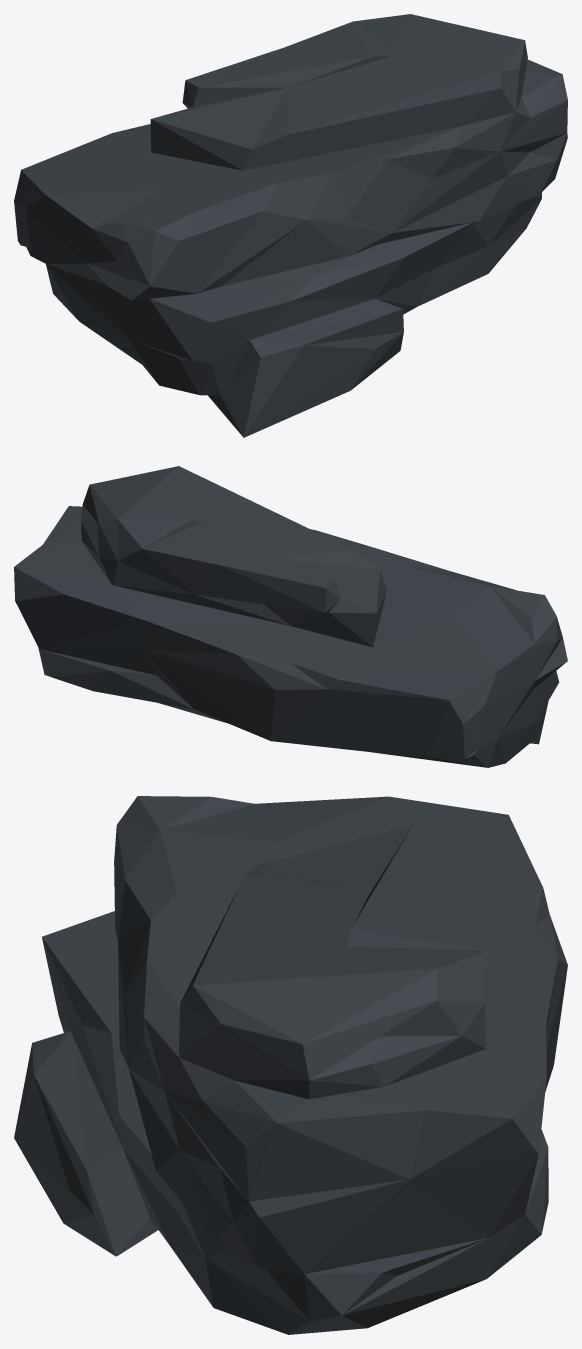
The model's file is MDungeon_CavernRock_Small_03.FBX.
3 views of the same model, one above another, from view 1: azimuth 30°, elevation 25°; view 2: azimuth 150°, elevation 25°; view 3: azimuth 270°, elevation 25° (orthographic). The views are drawn at different scales.
Visible parts, largest first — view 1: MDungeon_CavernRock_Small_03_LOD0; view 2: MDungeon_CavernRock_Small_03_LOD0; view 3: MDungeon_CavernRock_Small_03_LOD0.
Boxes of the visible parts, x1,y1,x2,y2 form: MDungeon_CavernRock_Small_03_LOD0: [14, 14, 567, 437]; MDungeon_CavernRock_Small_03_LOD0: [14, 466, 567, 767]; MDungeon_CavernRock_Small_03_LOD0: [14, 796, 567, 1334].
Size of what is drawn, in the model's own units: 13 by 6.49 by 8.1.
